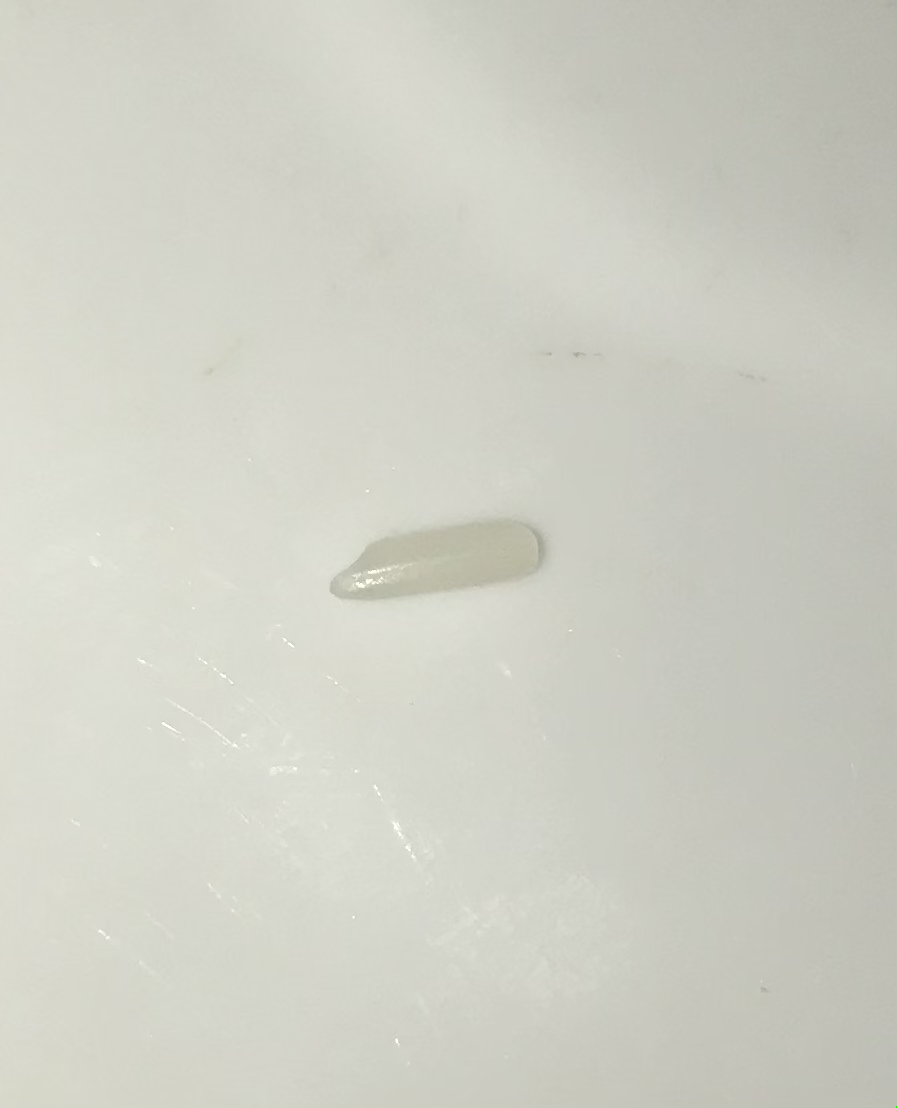Gao Ngoc Troi: (324, 501, 561, 627)
